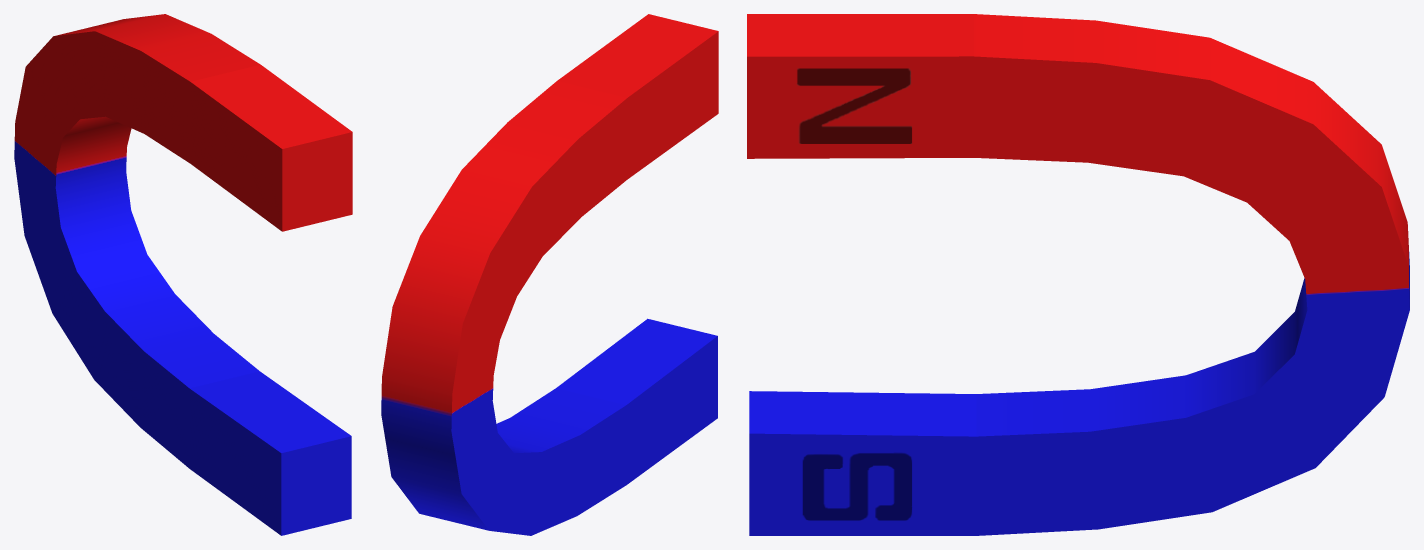
Rendered from magnet.FBX.
3 views of the same model, side by side, from view 1: azimuth 30°, elevation 25°; view 2: azimuth 150°, elevation 25°; view 3: azimuth 270°, elevation 25° (orthographic). The views are drawn at different scales.
Parts seen in each view (by area): view 1: Box001; view 2: Box001; view 3: Box001.
Part boxes in pixels (x1=…): Box001: x1=14, y1=14, x2=352, y2=535; Box001: x1=381, y1=14, x2=718, y2=535; Box001: x1=747, y1=14, x2=1409, y2=535.
Size of the model in its own units: 3.58 by 18.85 by 23.62.
Materials: 1 (1 with a texture image).
